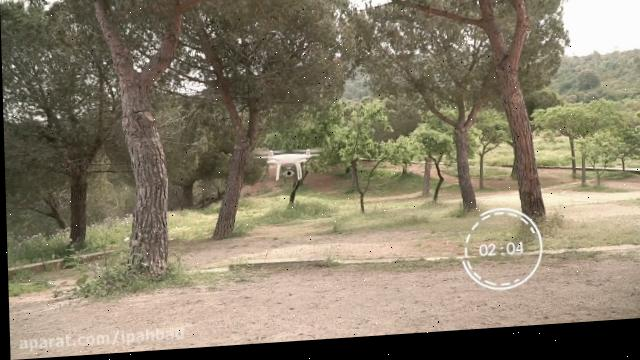drone: (248, 148, 325, 188)
